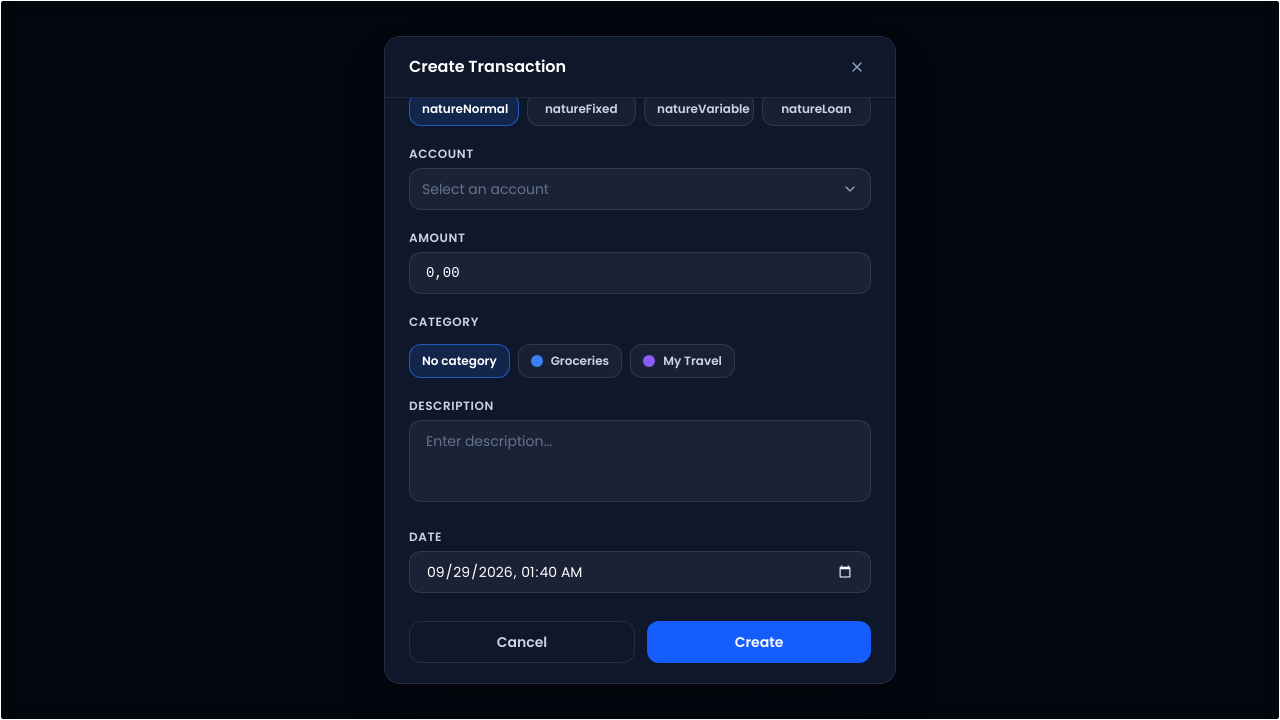
CreateTransactionModal › should validate required fields on submit
(page scrolled)
# Click submit to trigger validation
Step 1. Click the button "Create" → (759, 642), box [647,621,871,663]
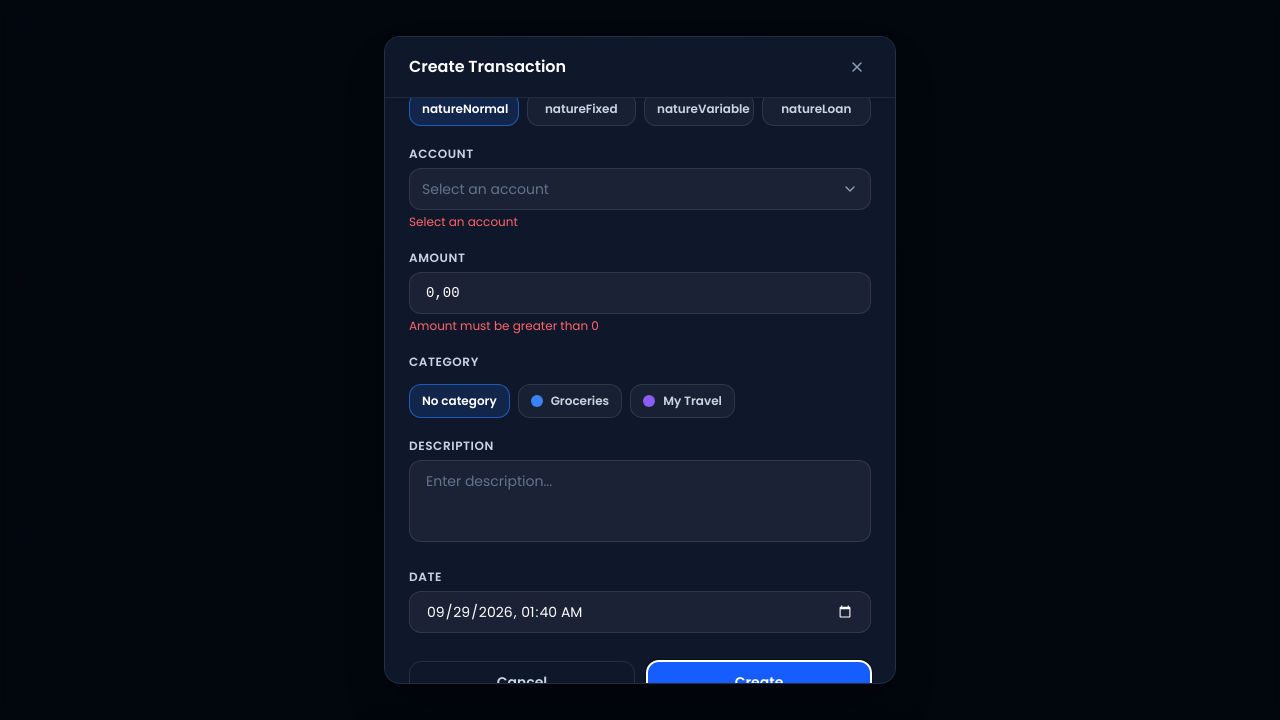
Now the message "Select an account" is shown, box [409,213,518,230]
